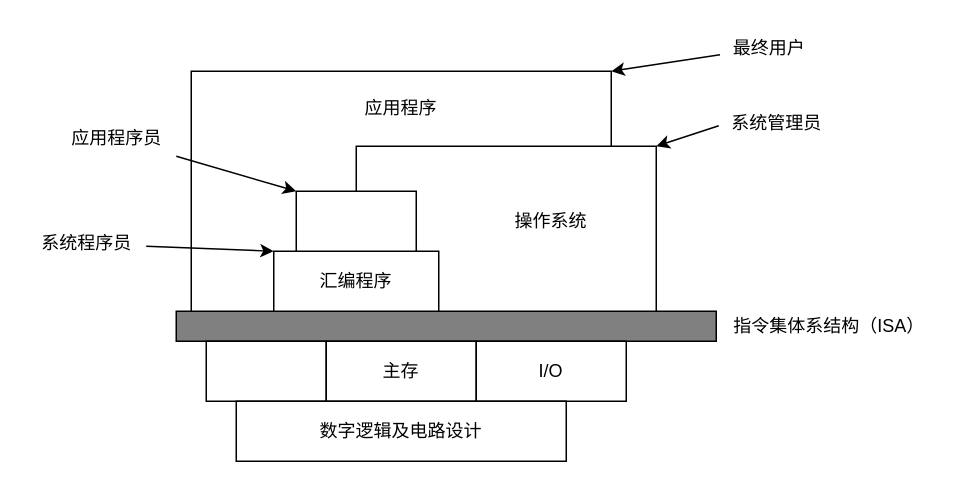
The diagram is 966 pixels wide and 501 high, and some of its shapes have lost their labels. The centre of each missing label's shape, as x and y in pixels:
"CPU" belongs at point 265,370.
"编译程序" belongs at point 355,220.
